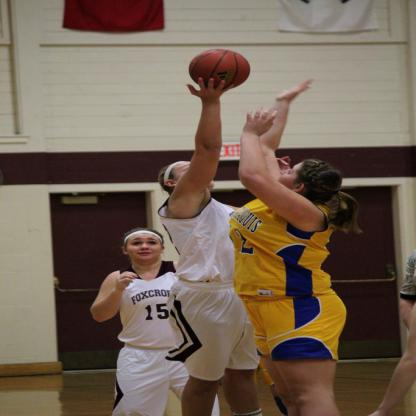Ball: (188, 48, 252, 90)
